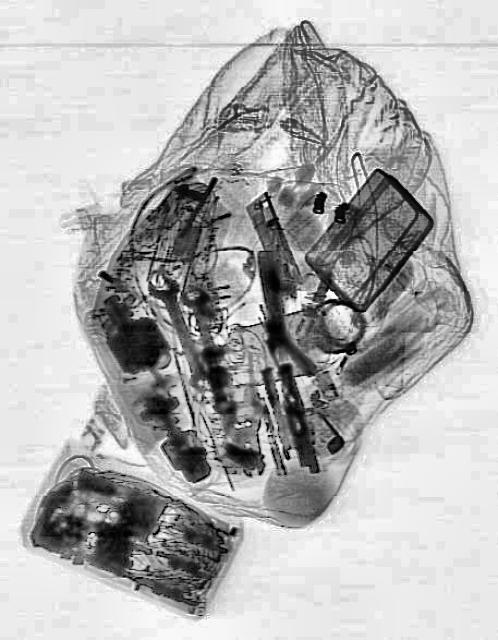Wrench: (142, 266, 218, 398), (175, 278, 239, 418)
